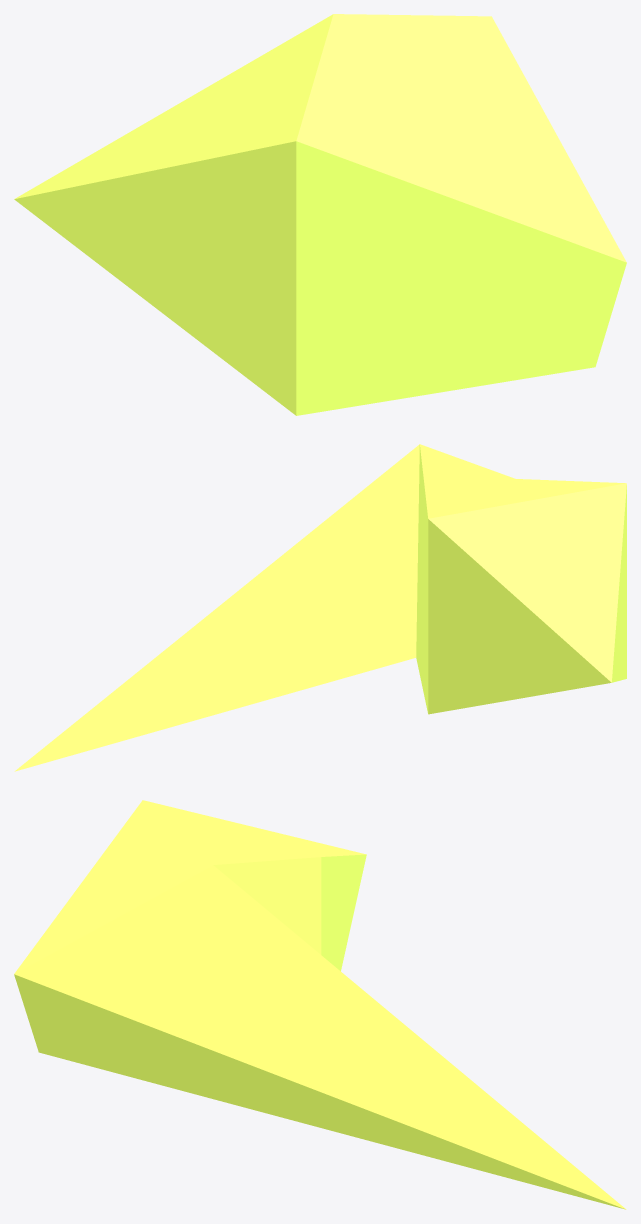
File: H1_YPl_Blob2.gltf
The picture shows the model from 3 angles, top to bottom: view 1: azimuth 30°, elevation 25°; view 2: azimuth 150°, elevation 25°; view 3: azimuth 270°, elevation 25°; orthographic projection. The views are drawn at different scales.
Visible parts, largest first — view 1: H1_YPl_Blob2; view 2: H1_YPl_Blob2; view 3: H1_YPl_Blob2.
Boxes of the visible parts, x1,y1,x2,y2 form: H1_YPl_Blob2: (14,14,626,415); H1_YPl_Blob2: (14,444,626,771); H1_YPl_Blob2: (14,800,626,1209).
Size of the model in its own units: 0.8319 by 0.3904 by 0.902.
